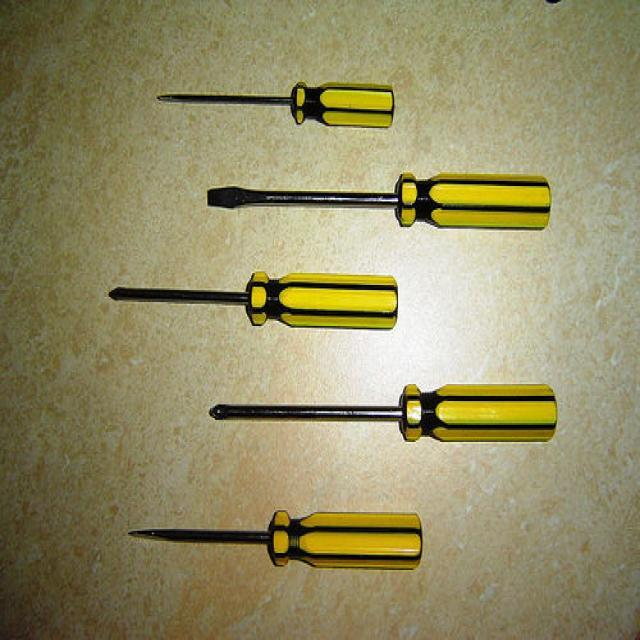screwdriver: (208, 372, 562, 467), (188, 165, 562, 246), (102, 503, 454, 589), (103, 257, 410, 349), (144, 66, 412, 140)
